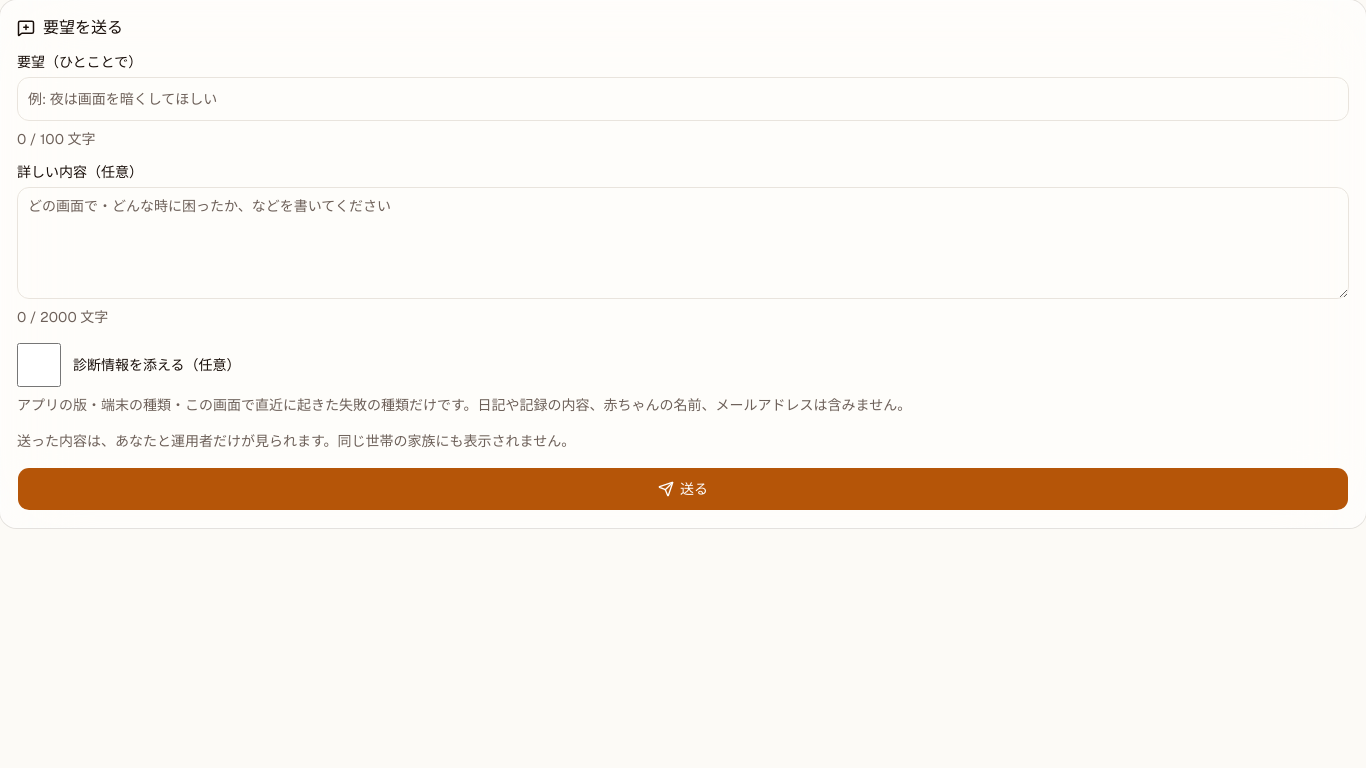
FeedbackForm の診断情報 › ⭐ 端末にある本文・名前・メール・token・失敗の自由文を、添える文面に載せぬ
Type "みかん" into the text box labelled "詳しい内容（任意）". click: (683, 243)
box: [17,187,1349,299]
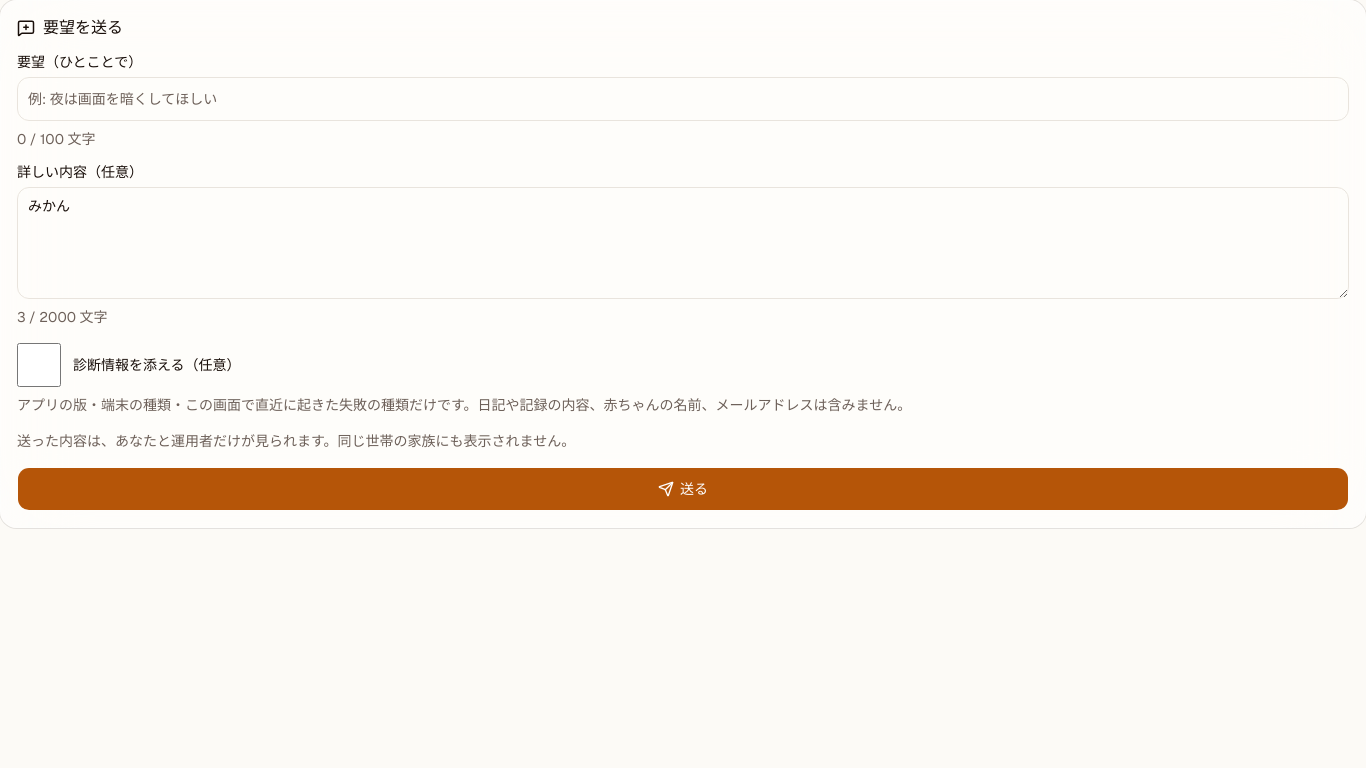
Click the checkbox labelled "診断情報を添える（任意）". click: (39, 365)
box: [17,343,61,387]
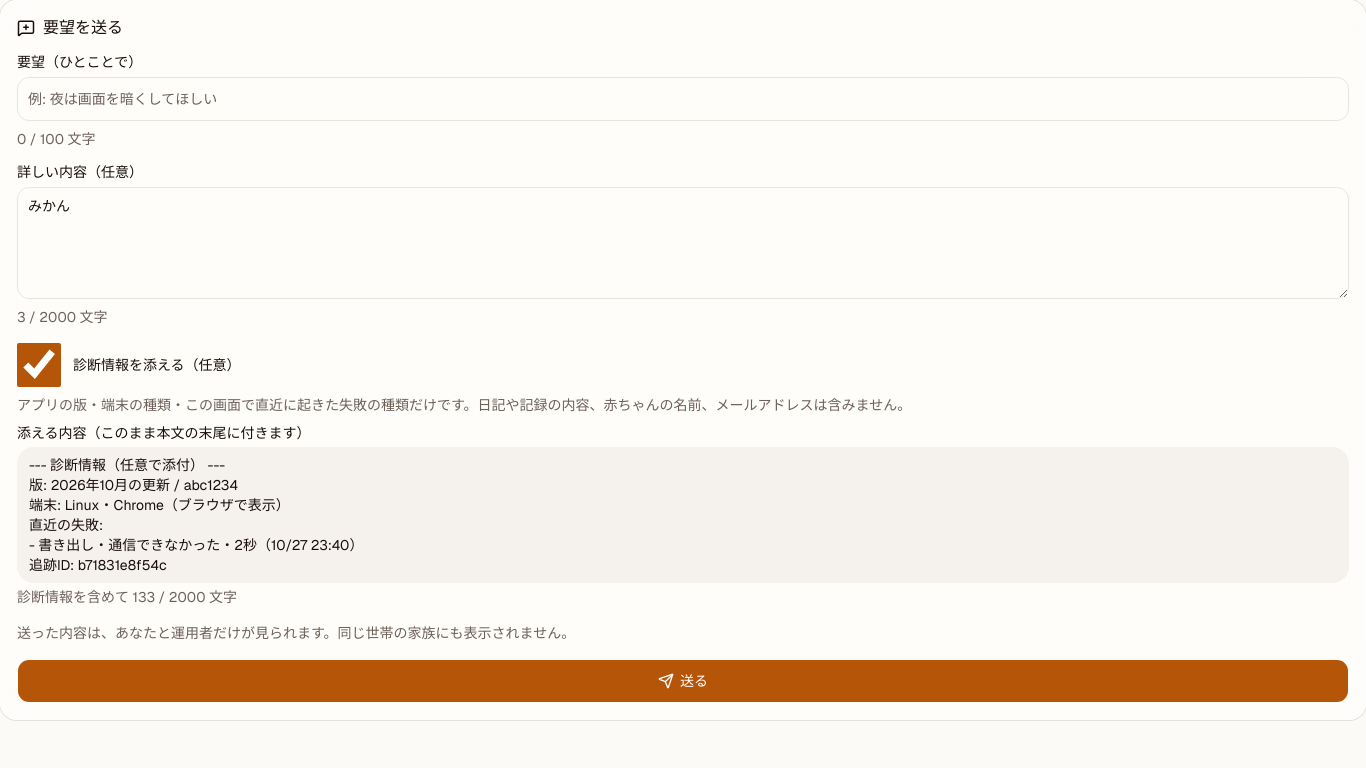
Expected: the element with test id "feedback-diagnostic-preview" does not show "みかん"
Result: the text with test id "feedback-diagnostic-preview" shows "- 書き出し・通信できなかった・2秒" at [29,456,363,574]
